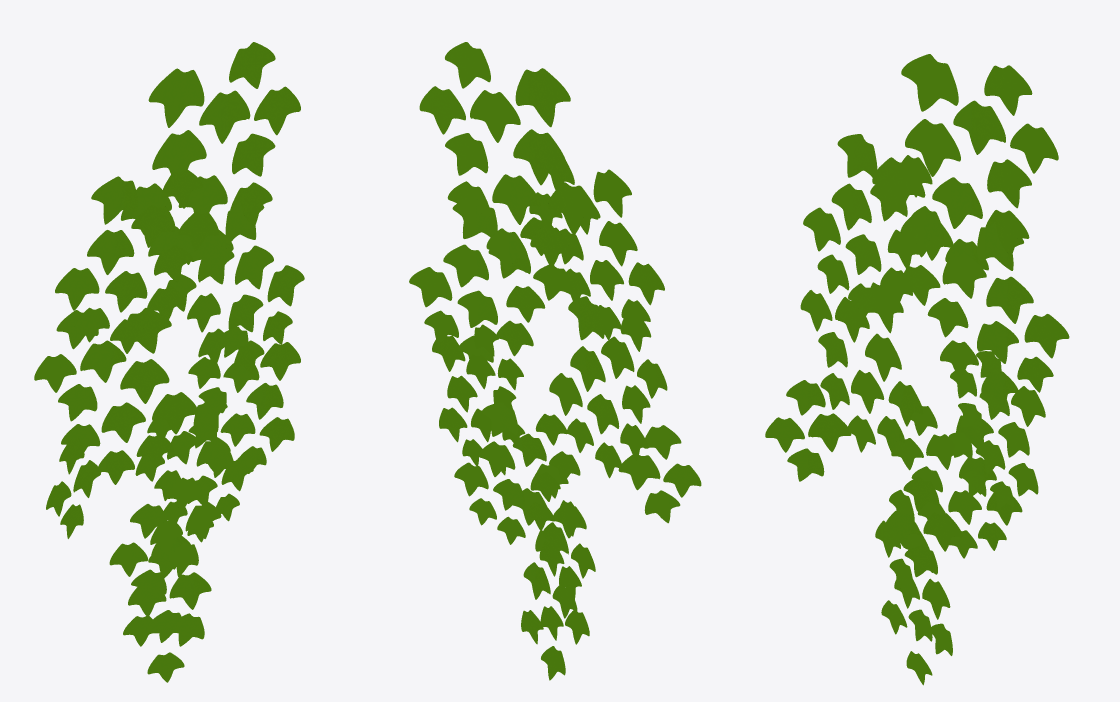
The model's file is vine-2.glb.
3 renders of one model, left to right at view 1: azimuth 30°, elevation 25°; view 2: azimuth 150°, elevation 25°; view 3: azimuth 330°, elevation 25°, orthographic. The views are drawn at different scales.
Parts seen in each view (by area): view 1: Prop_Vine2; view 2: Prop_Vine2; view 3: Prop_Vine2.
Boxes of the visible parts, x1,y1,x2,y2 form: Prop_Vine2: [34, 42, 304, 682]; Prop_Vine2: [409, 42, 701, 680]; Prop_Vine2: [765, 54, 1069, 685].
Size of the model in its own units: 1.39 by 2.6 by 0.2138.
1 material, 1 textured.
